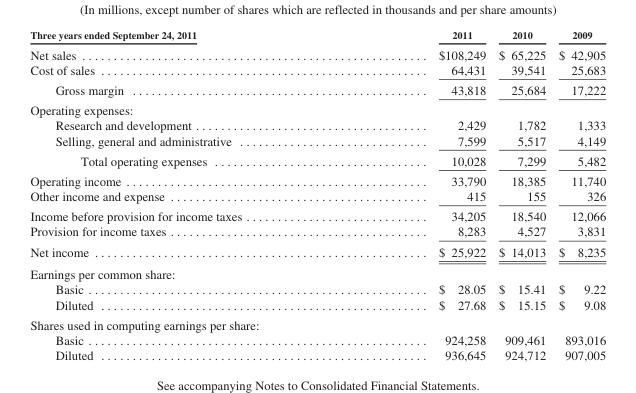table: (29, 29, 605, 361)
table column: (29, 29, 340, 361), (340, 29, 491, 361), (491, 29, 551, 361), (551, 29, 605, 361)
table column header: (29, 29, 605, 43)
table projected row header: (29, 262, 605, 281), (29, 99, 605, 117), (29, 314, 605, 332)
table row: (29, 241, 605, 262), (29, 79, 605, 99), (29, 150, 605, 170), (29, 262, 605, 281), (29, 43, 605, 61), (29, 61, 605, 79), (29, 99, 605, 117), (29, 132, 605, 150), (29, 170, 605, 188), (29, 205, 605, 223), (29, 223, 605, 241), (29, 296, 605, 314), (29, 314, 605, 332), (29, 188, 605, 205), (29, 117, 605, 132), (29, 281, 605, 296), (29, 332, 605, 347), (29, 29, 605, 43), (29, 347, 605, 361)
